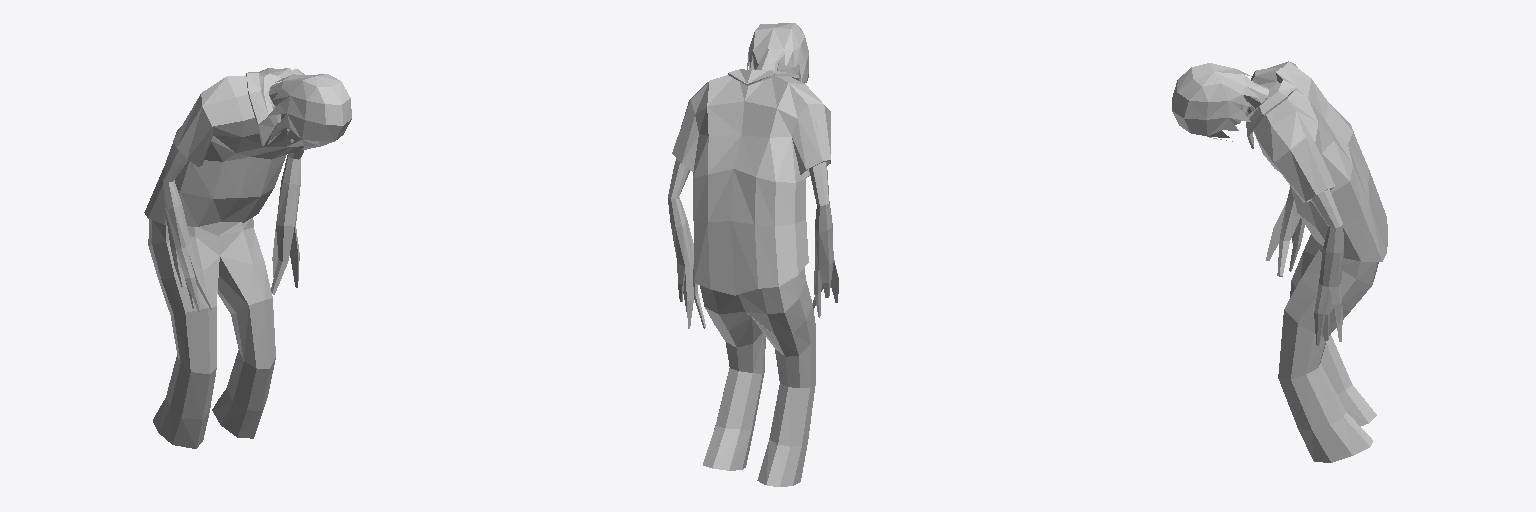
File: zombie male 1.obj
3 renders of one model, left to right at view 1: azimuth 30°, elevation 25°; view 2: azimuth 150°, elevation 25°; view 3: azimuth 270°, elevation 25°, orthographic.
Parts seen in each view (by area): view 1: Cube.001; view 2: Cube.001; view 3: Cube.001.
Part boxes in pixels (x1,y1,x2,y2): Cube.001: (144, 68, 351, 448); Cube.001: (668, 23, 838, 486); Cube.001: (1172, 61, 1387, 462).
Bounding box in the file's own units: 0.5725 × 1.42 × 0.7014.